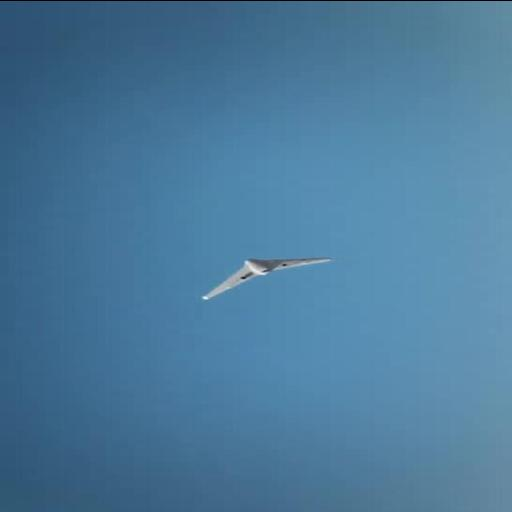uav: (192, 253, 338, 300)
